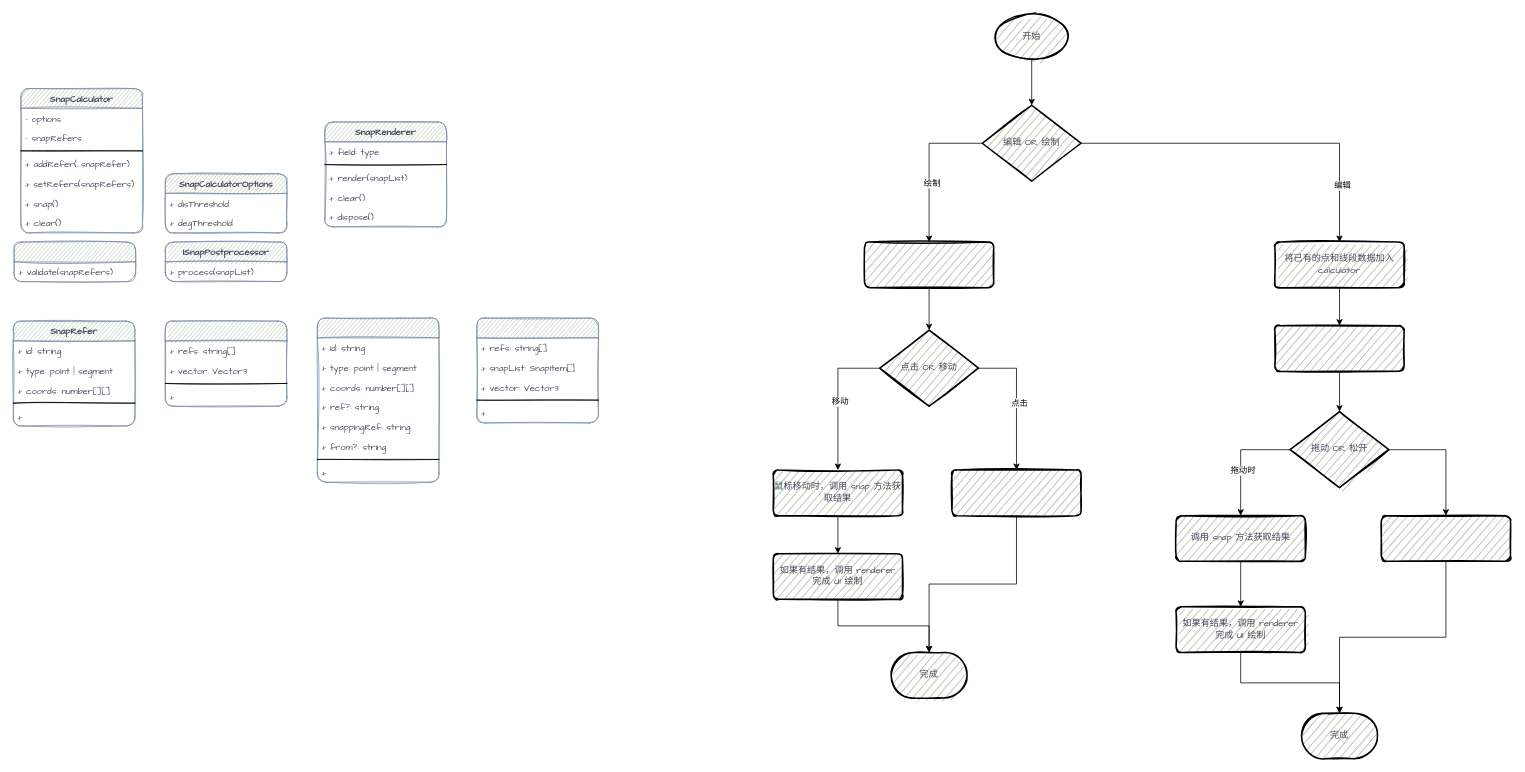
Image size: 1525x772. Some labels were removed from this diagram. Here are the shapes that lost their labels. From the top down, the box of each, then its label:
(13, 241, 136, 282): ISnapValidator
(863, 241, 994, 288): 接入绘制模块
(165, 320, 287, 406): SnappingVector
(1274, 325, 1404, 372): 接入编辑模块
(476, 317, 598, 423): SnapResult
(317, 317, 439, 482): SnapItem
(951, 469, 1081, 516): 每完成一个点绘制时，加入对应的 SnapRefer
(1380, 515, 1511, 562): 更新已有的 calculator 中相关数据
